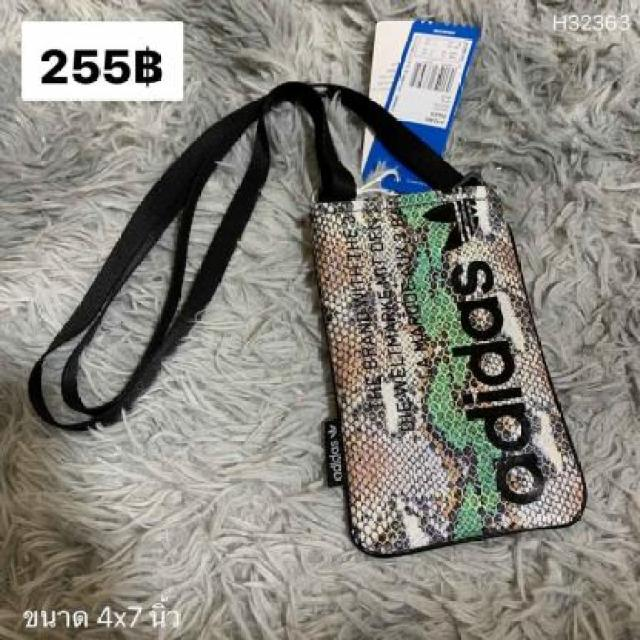Bag: (197, 73, 606, 575)
